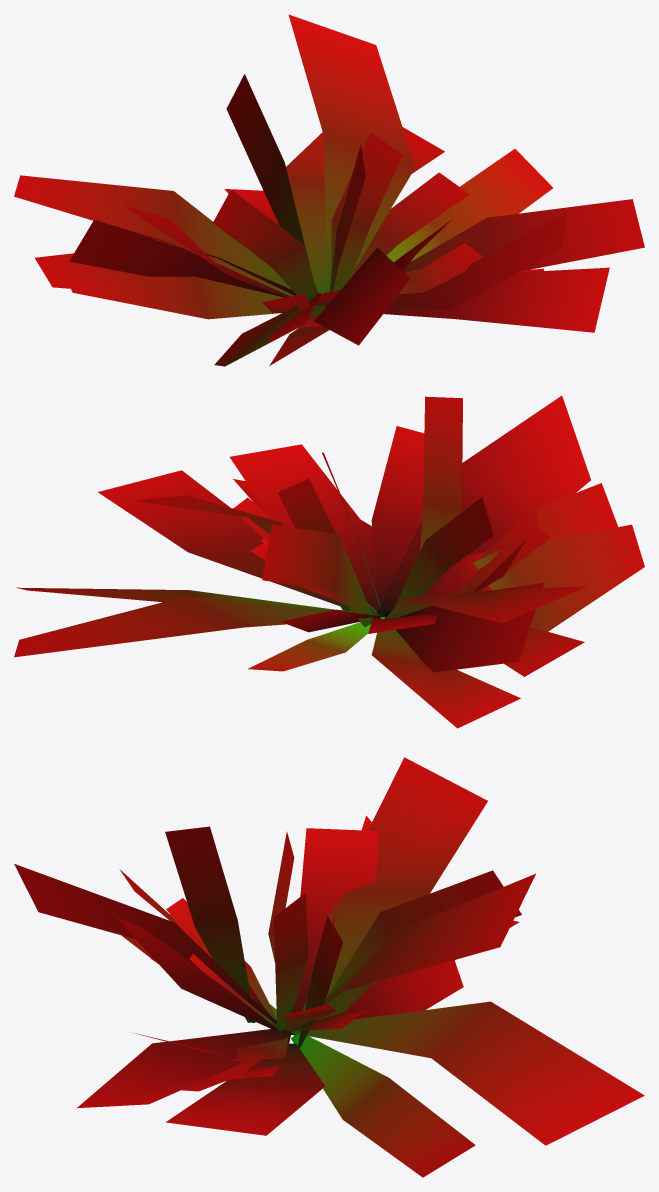
The model's file is Var2_LOD2.fbx.
3 views of the same model, one above another, from view 1: azimuth 30°, elevation 25°; view 2: azimuth 150°, elevation 25°; view 3: azimuth 270°, elevation 25° (orthographic). The views are drawn at different scales.
Visible parts, largest first — view 1: _9d3d_Var2_LOD2; view 2: _9d3d_Var2_LOD2; view 3: _9d3d_Var2_LOD2.
Part boxes in pixels (x1,y1,x2,y2): _9d3d_Var2_LOD2: [14, 14, 644, 366]; _9d3d_Var2_LOD2: [14, 395, 644, 728]; _9d3d_Var2_LOD2: [14, 757, 644, 1177].
Size of the model in its own units: 28.63 by 11.06 by 26.85.
